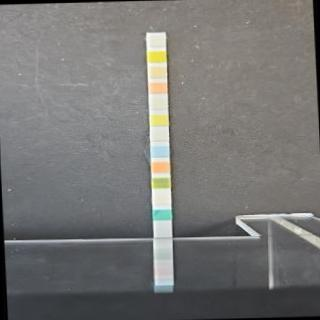mark: (148, 65, 166, 78), (150, 95, 167, 108), (152, 208, 170, 220), (152, 192, 170, 204), (148, 82, 166, 94), (150, 113, 166, 126), (153, 176, 170, 188), (151, 145, 168, 157), (151, 128, 168, 140), (147, 34, 164, 46), (147, 51, 165, 62), (152, 162, 168, 172)
